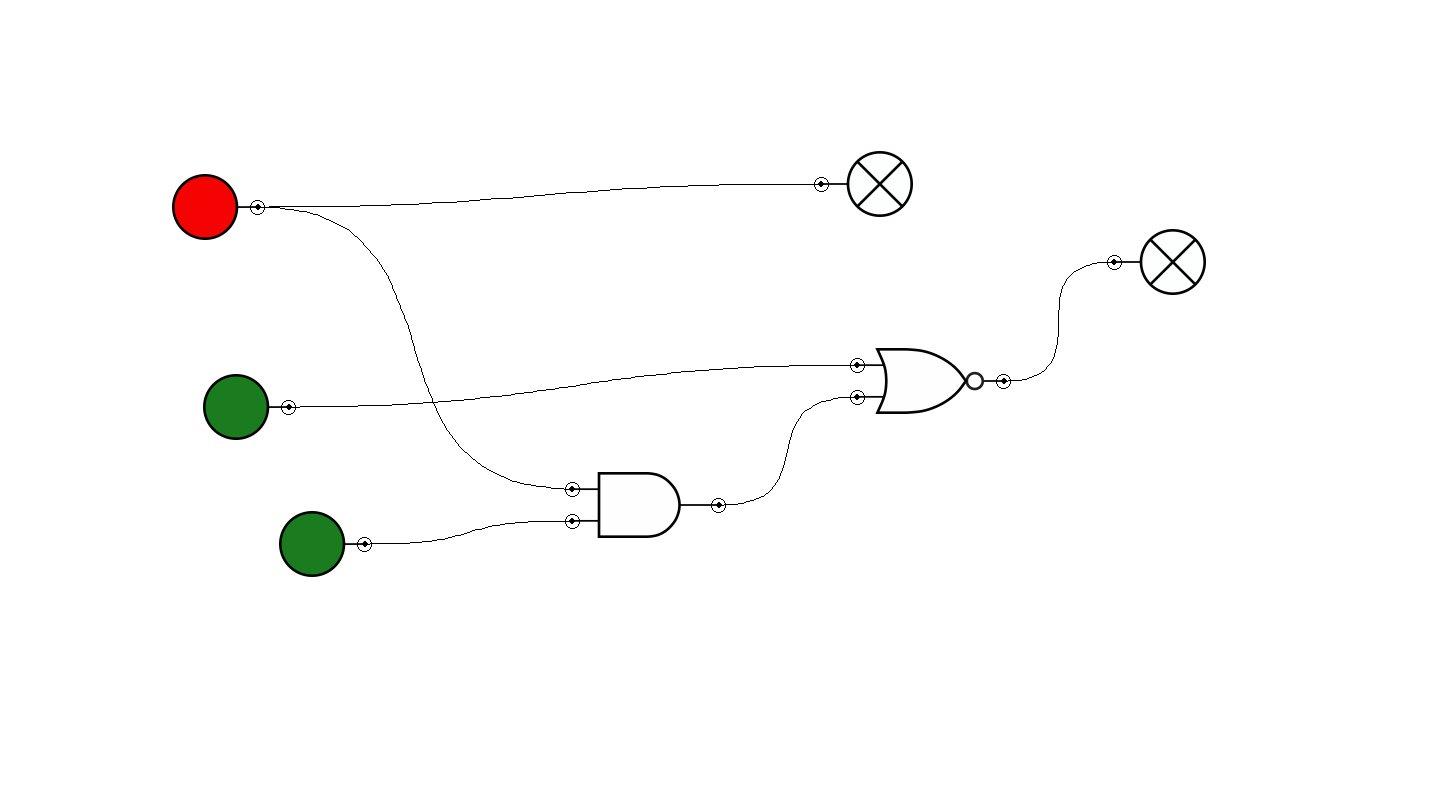and: (565, 472, 726, 538)
bulb: (814, 151, 913, 217), (1107, 229, 1206, 295)
nor: (850, 348, 1011, 414)
switch_False: (172, 174, 265, 240)
switch_True: (203, 374, 296, 440), (279, 511, 372, 577)
